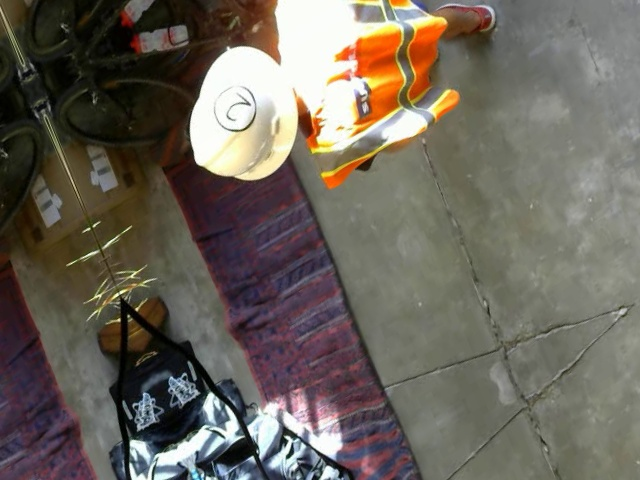two: (206, 75, 261, 141)
